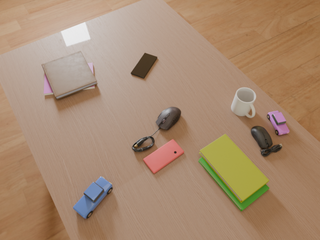book: (199, 134, 269, 203), (198, 157, 269, 211), (42, 51, 98, 100)
cup: (231, 88, 256, 118)
mouse: (251, 126, 282, 156), (156, 107, 181, 130)
phone: (143, 140, 184, 173), (131, 53, 157, 78)
toy_car: (73, 177, 113, 219), (267, 111, 289, 135)
